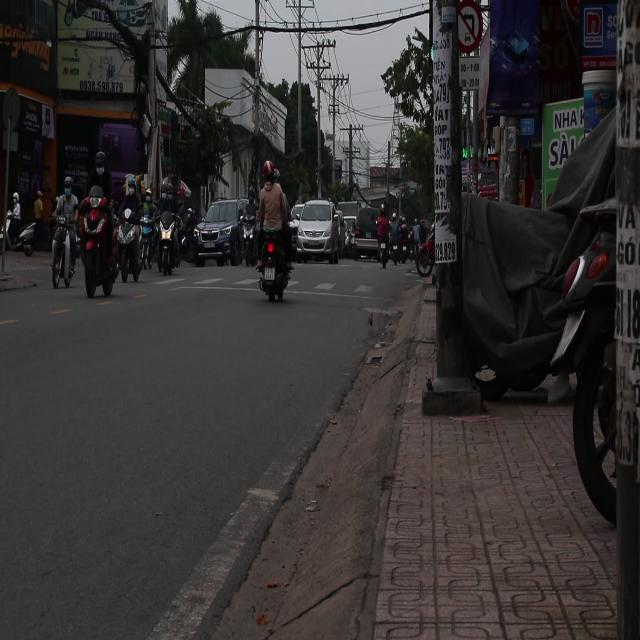car: (190, 199, 250, 267), (290, 200, 346, 262), (342, 203, 381, 259)
motorbike: (81, 196, 115, 308), (255, 227, 295, 302), (53, 201, 79, 298), (116, 216, 144, 287), (154, 212, 181, 276), (2, 211, 38, 256), (139, 204, 162, 272), (414, 225, 436, 278), (390, 233, 415, 264)
